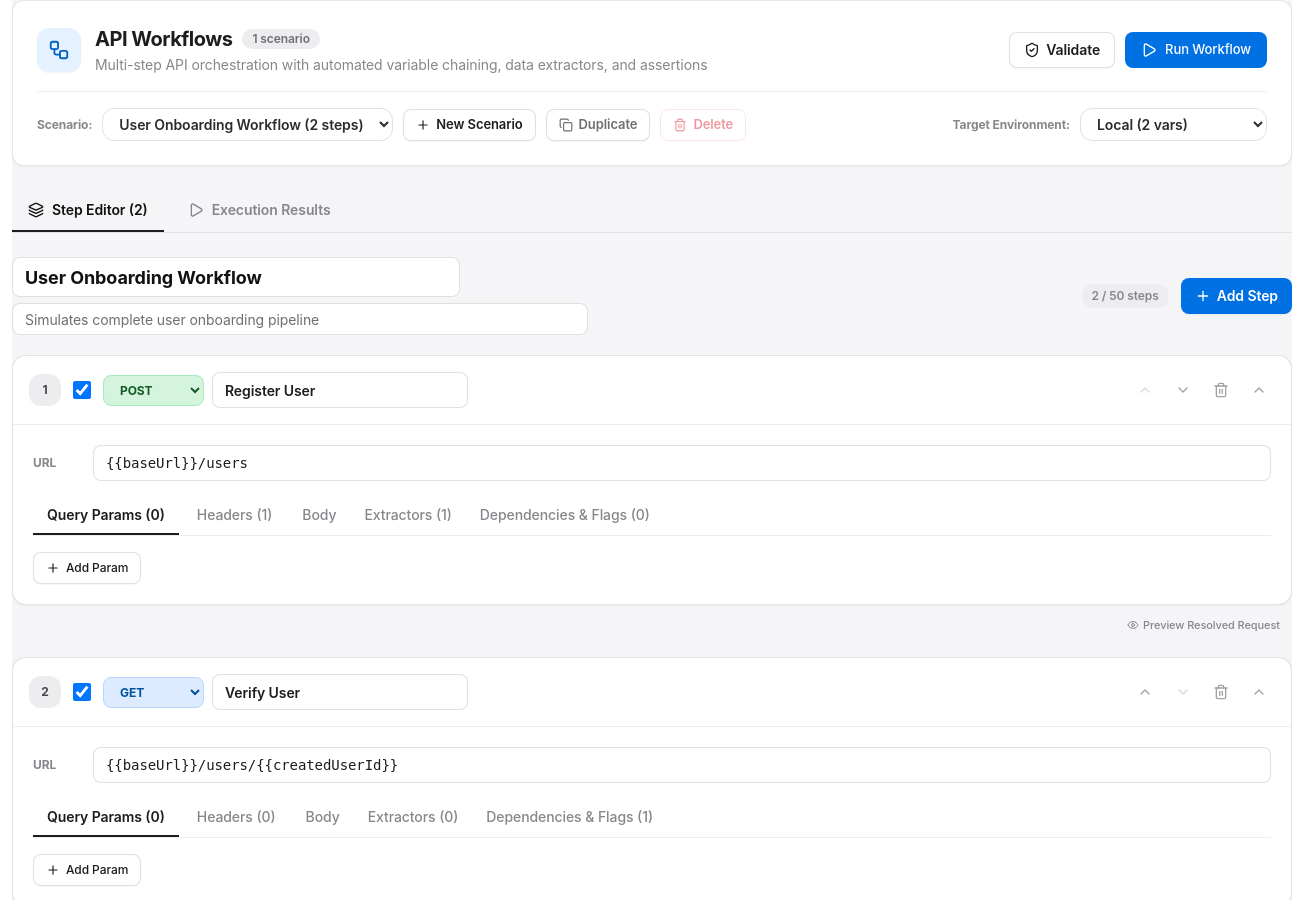
Test: WorkflowsPage Component Tests › allows users to add a new step to the workflow
Click the button "Add Step" at point(1236, 296), box [1181, 278, 1292, 314]
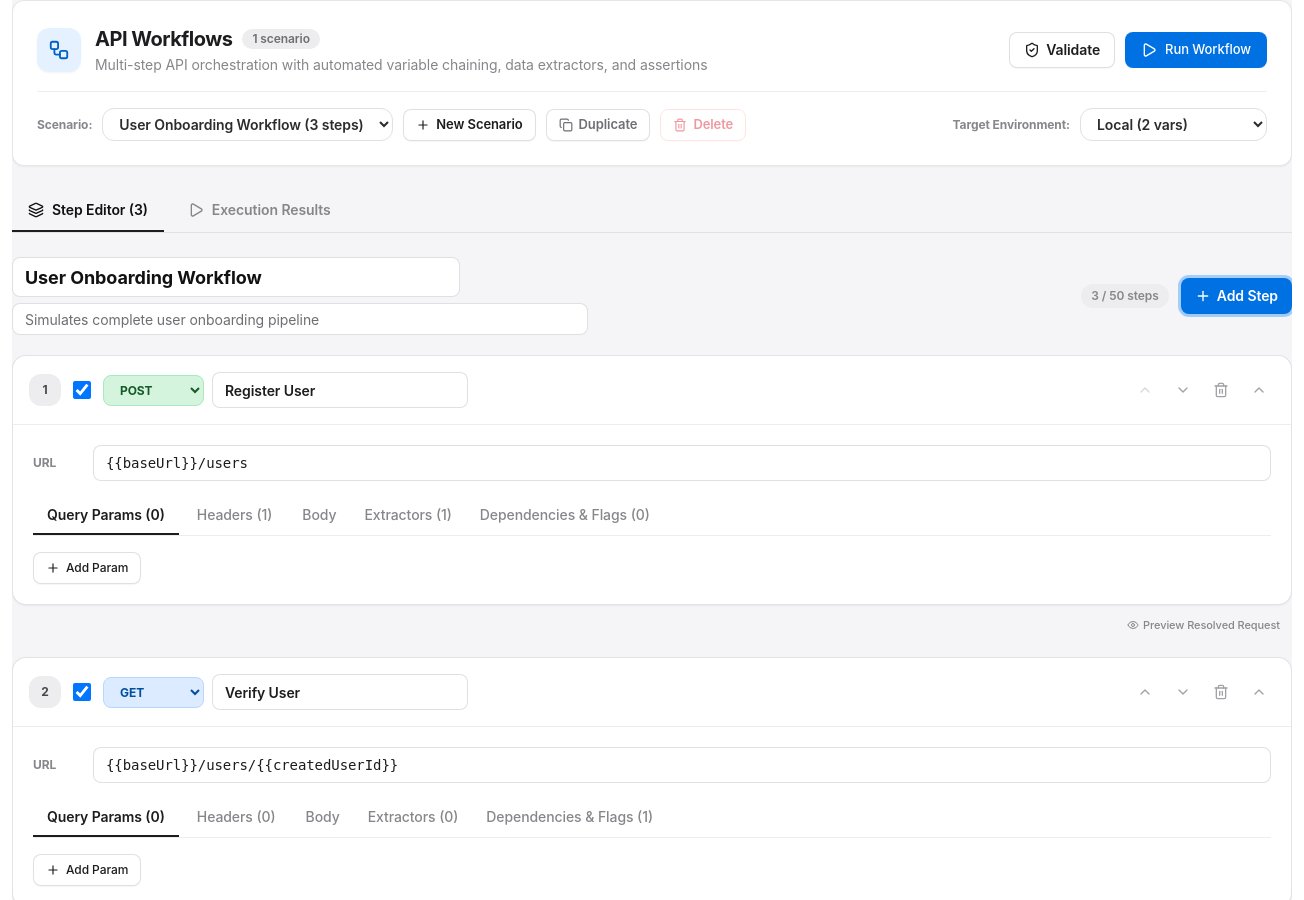
Check: the text "3 / 50 steps" is shown, box [1081, 284, 1169, 308]
